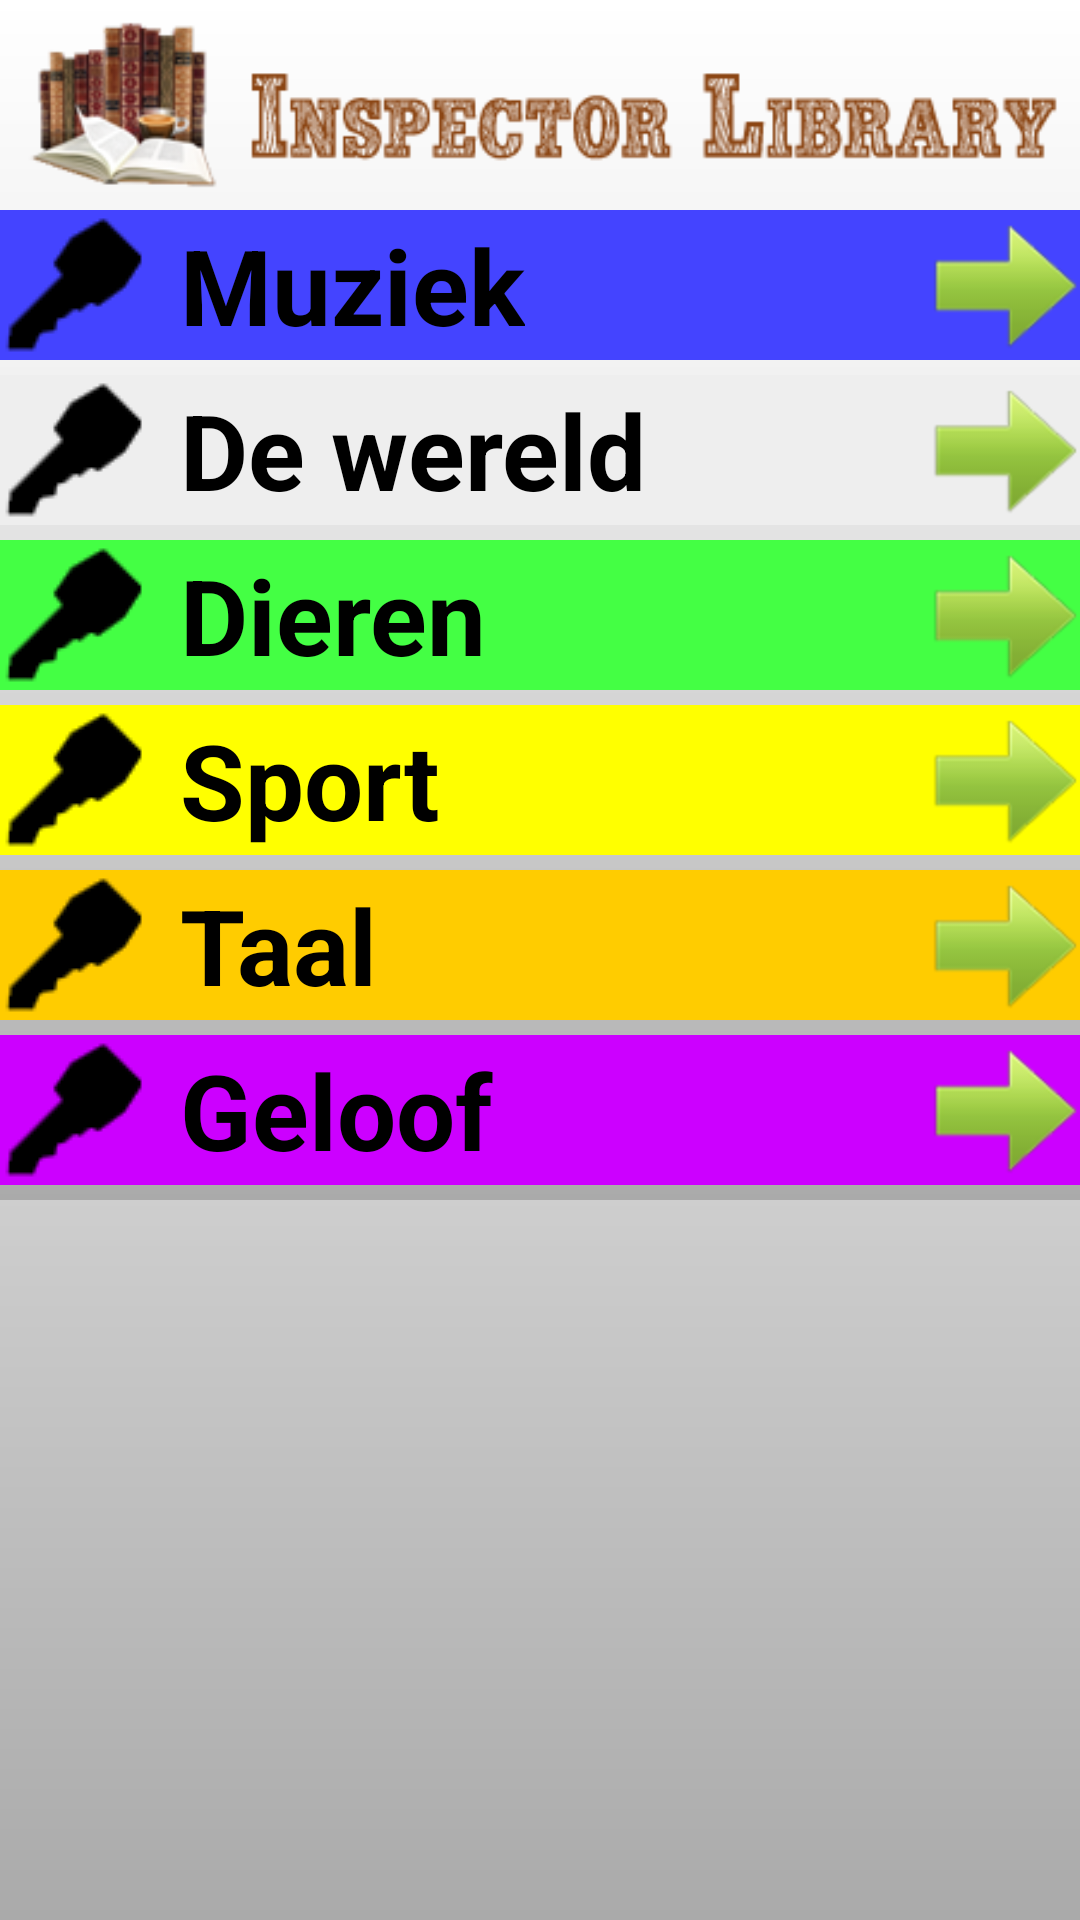

Named icons in this screenshot (1080×1920) and their centers, point (x, y):
arrowright: point (1005, 286), point (1005, 451), point (1005, 616), point (1005, 781), point (1005, 946), point (1005, 1111)
keystatus: point (74, 285), point (74, 450), point (74, 615), point (74, 780), point (74, 945), point (74, 1110)
